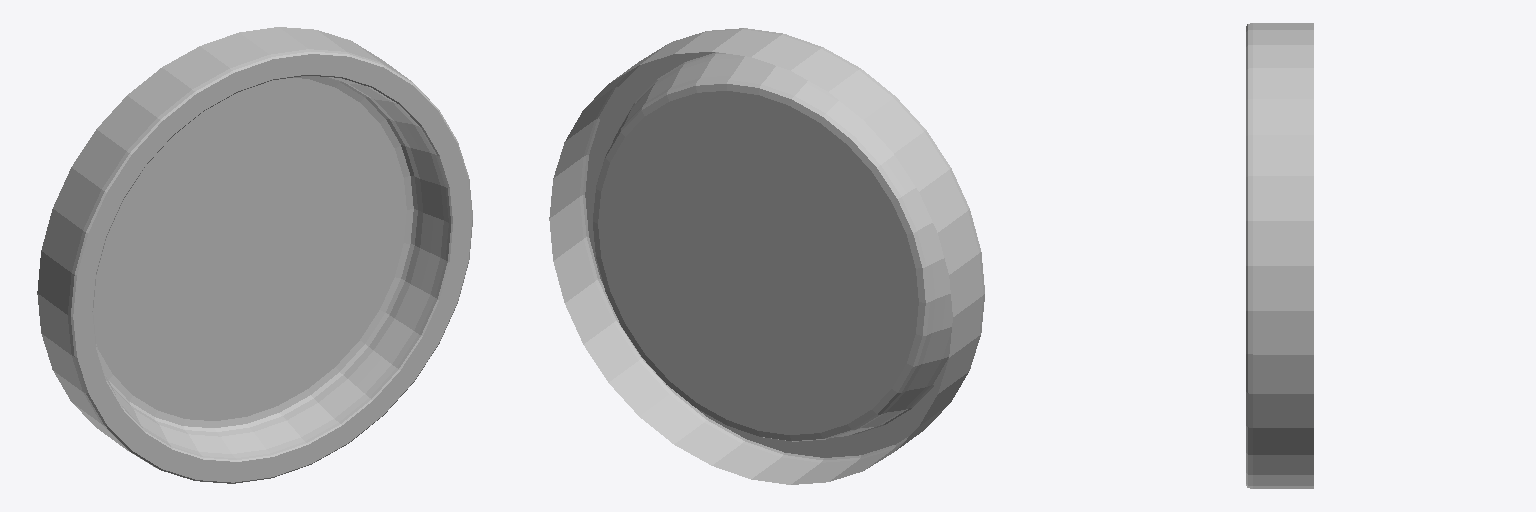
The model's file is housing.obj.
The picture shows the model from 3 angles: view 1: azimuth 30°, elevation 25°; view 2: azimuth 150°, elevation 25°; view 3: azimuth 270°, elevation 25°; orthographic projection.
Visible parts, largest first — view 1: Cylinder_Cylinder.002; view 2: Cylinder_Cylinder.002; view 3: Cylinder_Cylinder.002.
Boxes of the visible parts, box(x1,y1,x2,y2) form: Cylinder_Cylinder.002: box(37, 27, 472, 483); Cylinder_Cylinder.002: box(549, 28, 984, 484); Cylinder_Cylinder.002: box(1246, 23, 1313, 488).
Bounding box in the file's own units: 1.96 × 1.96 × 0.2833.